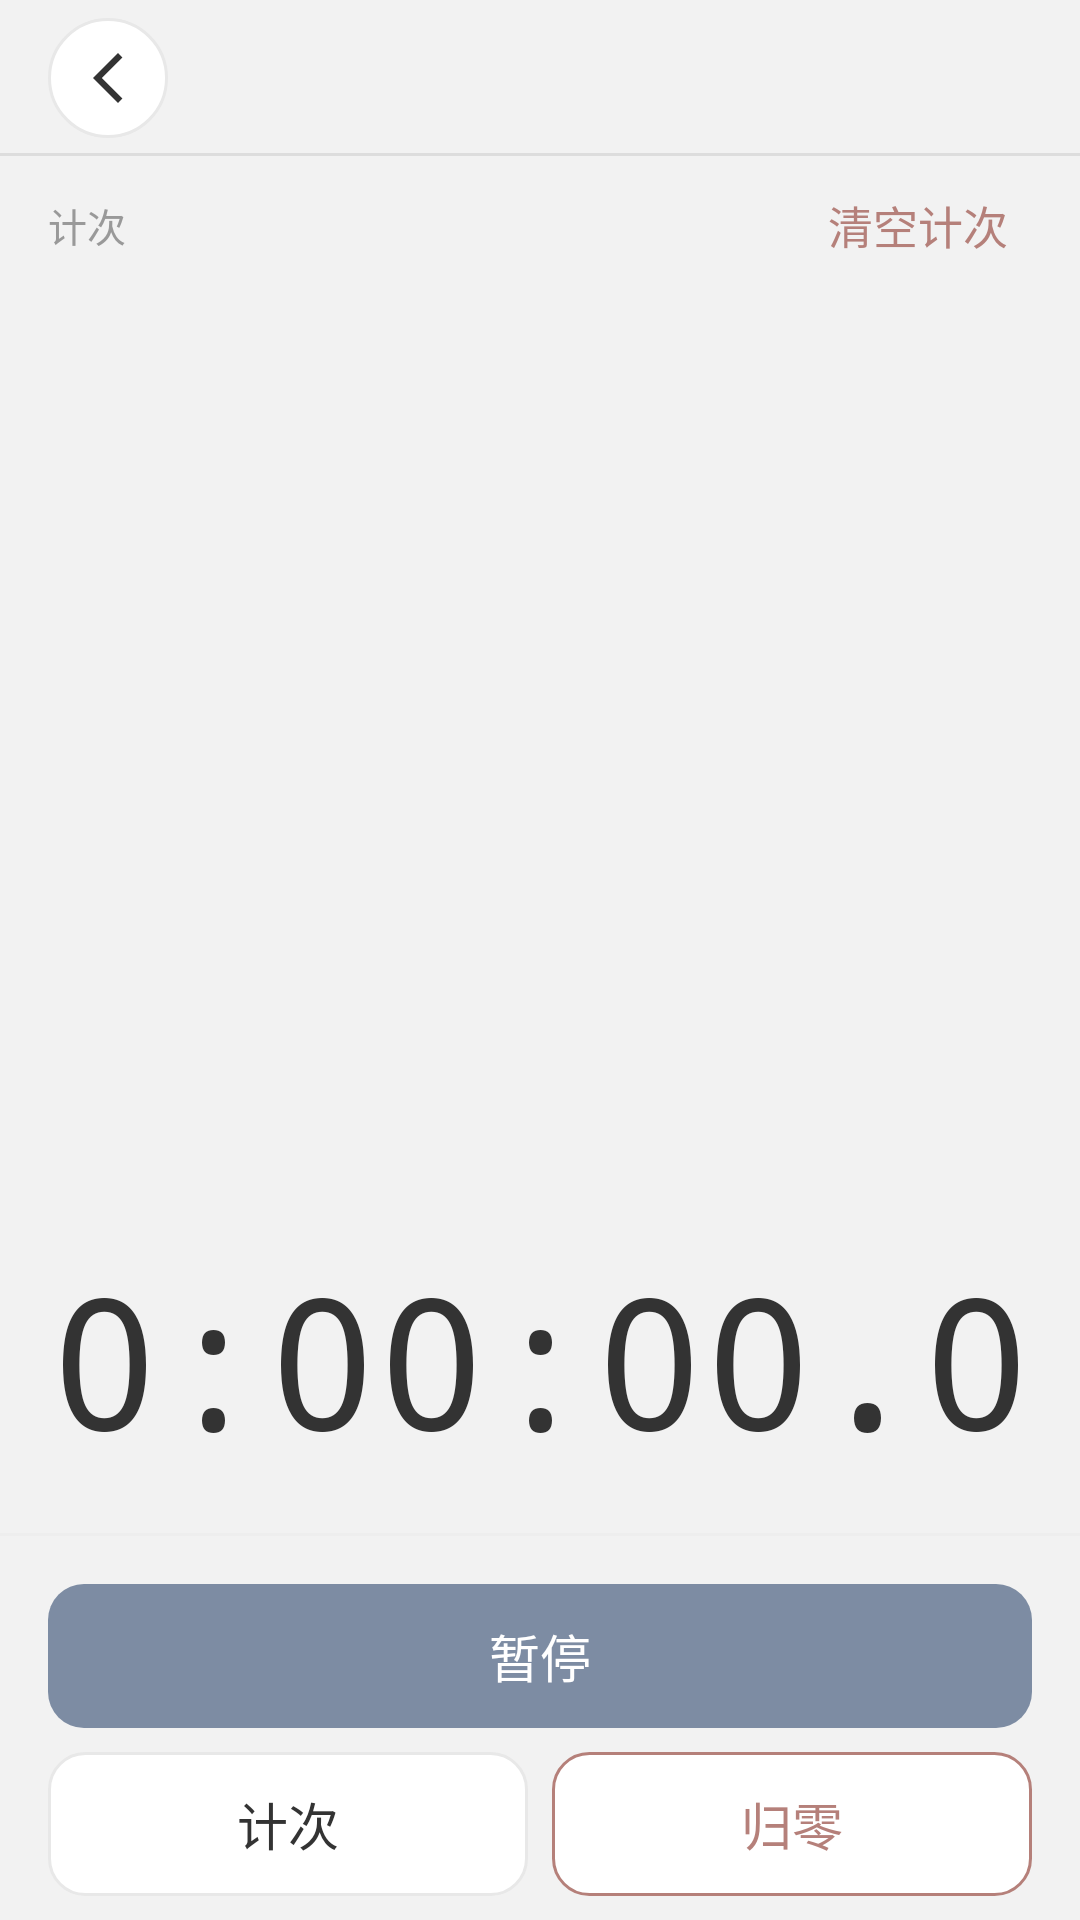

Named icons in this screenshot (1080x1920) and their centers, (x=x, y=y):
返回: (x=108, y=78)
